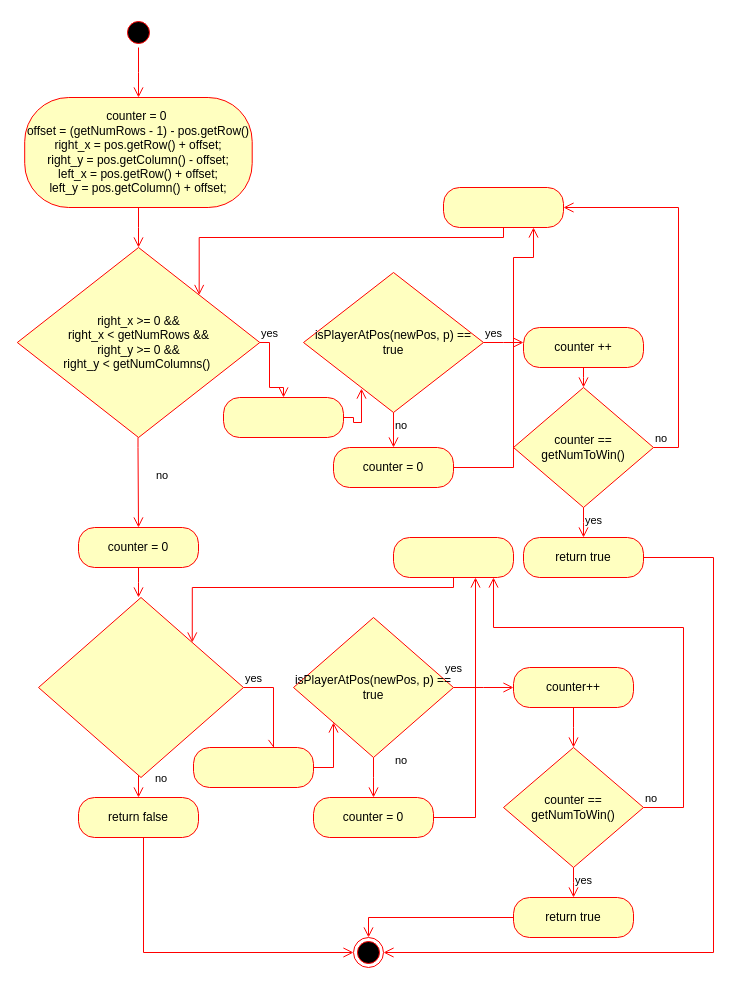
The diagram is 742 pixels wide and 985 high, and some of its shapes have lost their labels. Each missing label, with the centre of its shape:
"BP newPos = new BP(left_x, left_y)" belongs at point 253,767.
"BP newPos = new BP(right_x, right_y)" belongs at point 283,417.
"left_x >= 0 && left_x < getNumRows() && left_y >= 0 && left_y < getNumColumns()" belongs at point 141,687.
"left_x-- left_y--" belongs at point 453,557.
"right_x-- right_y++" belongs at point 503,207.
